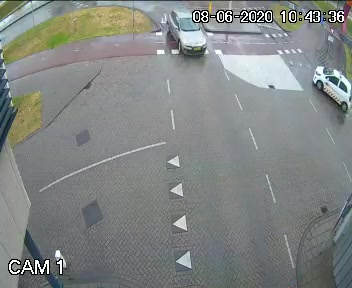car: (159, 1, 216, 73), (305, 54, 352, 127)
